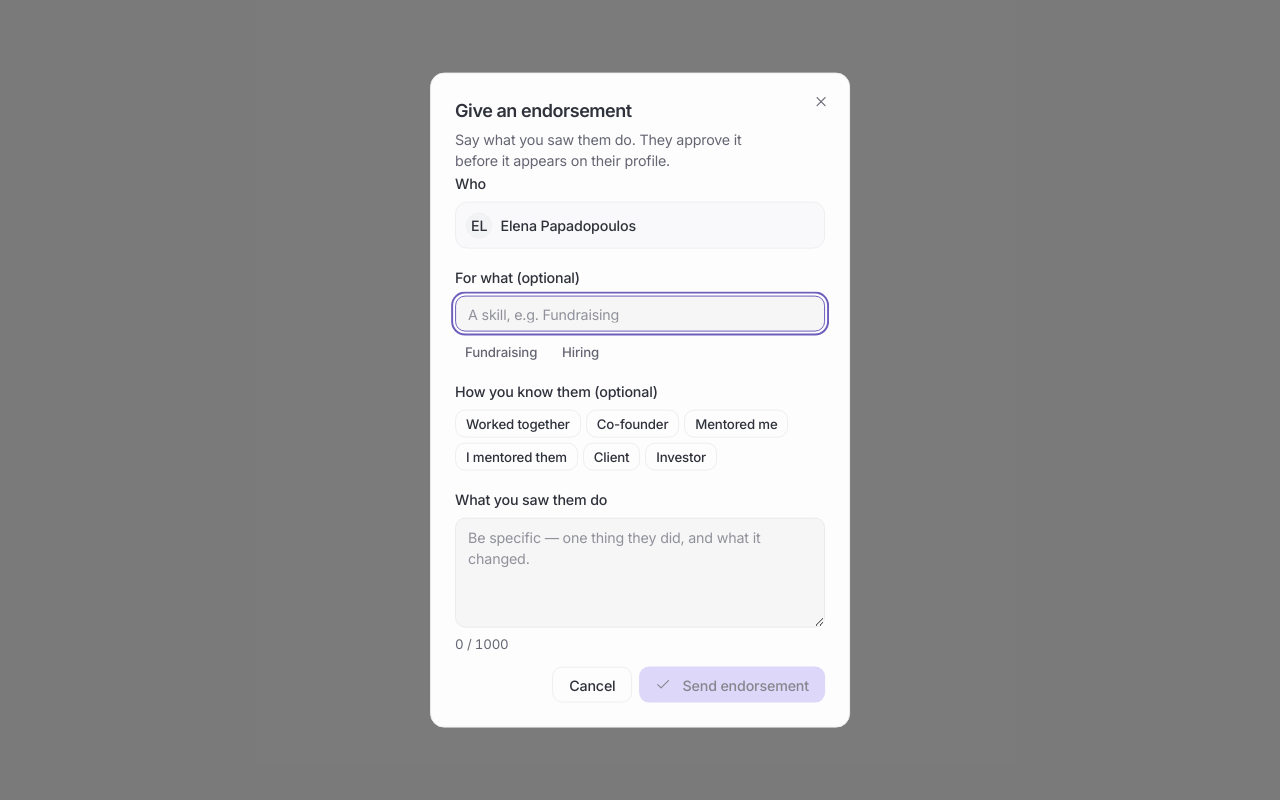
Test case: writing an endorsement › refuses to send until the content clears the server’s own minimum
Expected: the button "Send endorsement" is disabled, [639,667,825,703]
Step 1. Type "short" into the text box labelled "What you saw them do" → (640,572), box [455,517,825,627]
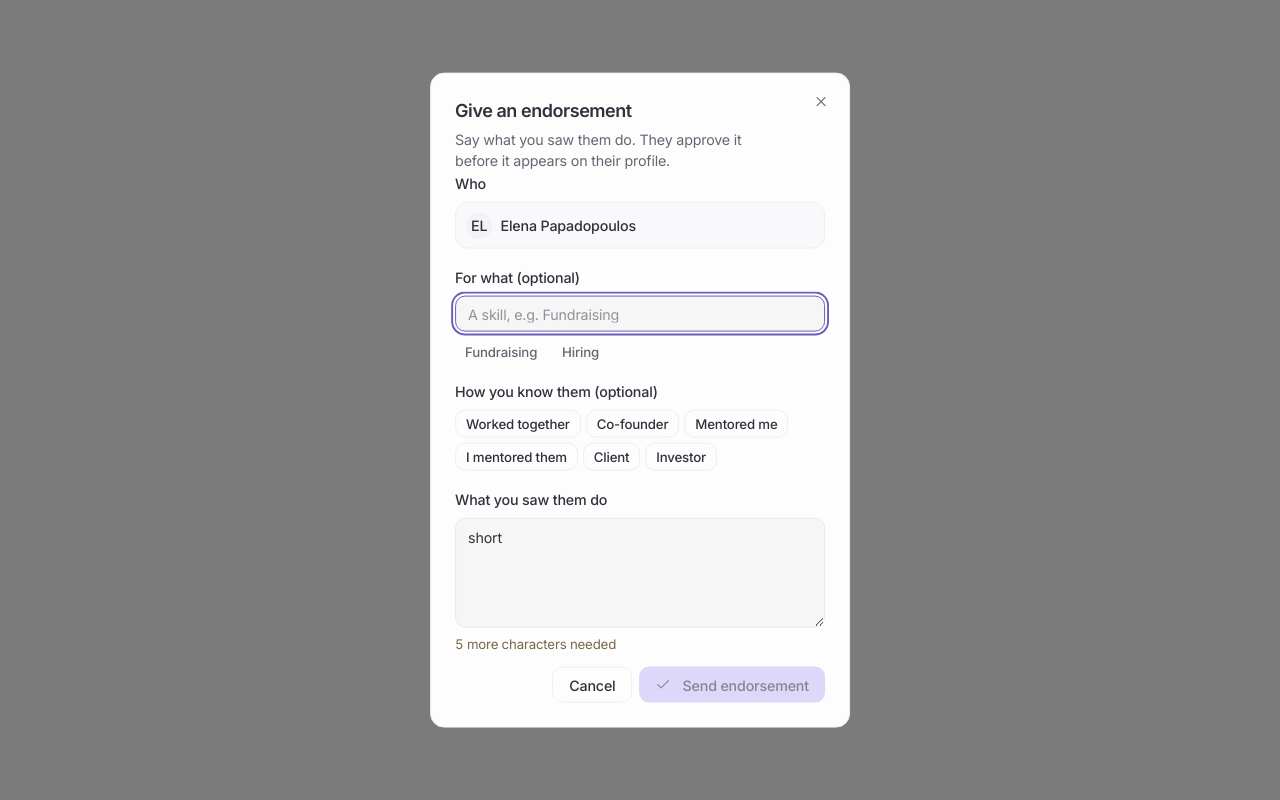
Expected: the button "Send endorsement" is disabled, [639,667,825,703]
Result: the text "5 more characters needed" is shown at [455,636,616,652]
Step 2. Replace the text in the text box labelled "What you saw them do" with "Rebuilt onboarding in two weeks." → (640,572), box [455,517,825,627]
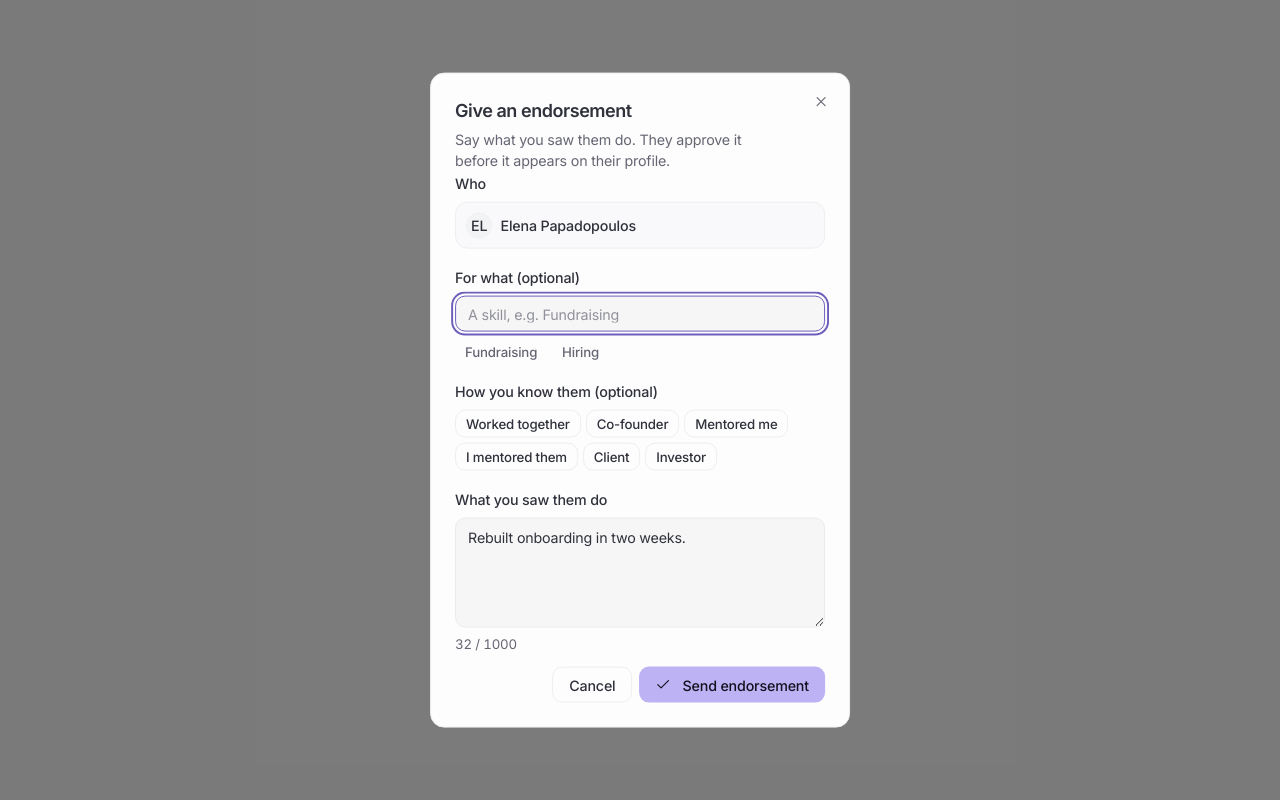
Result: the button "Send endorsement" is enabled at [639,667,825,703]
